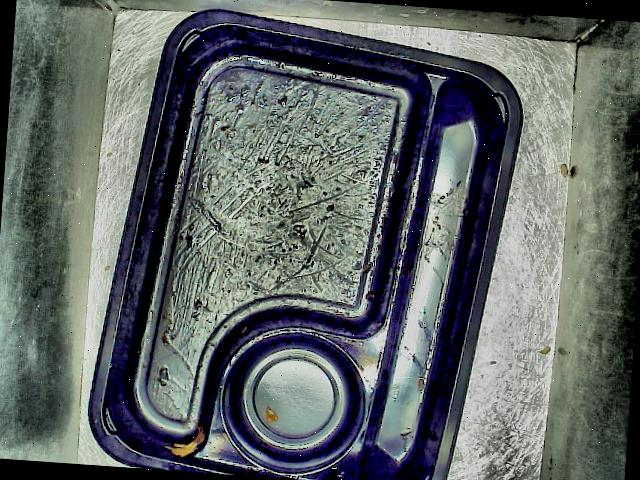Plastic: (86, 7, 533, 480)
